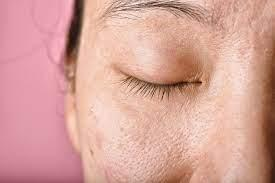Dry-Skin: (107, 137, 136, 171), (152, 128, 173, 157), (141, 154, 164, 175), (177, 120, 193, 149), (222, 8, 259, 16)
